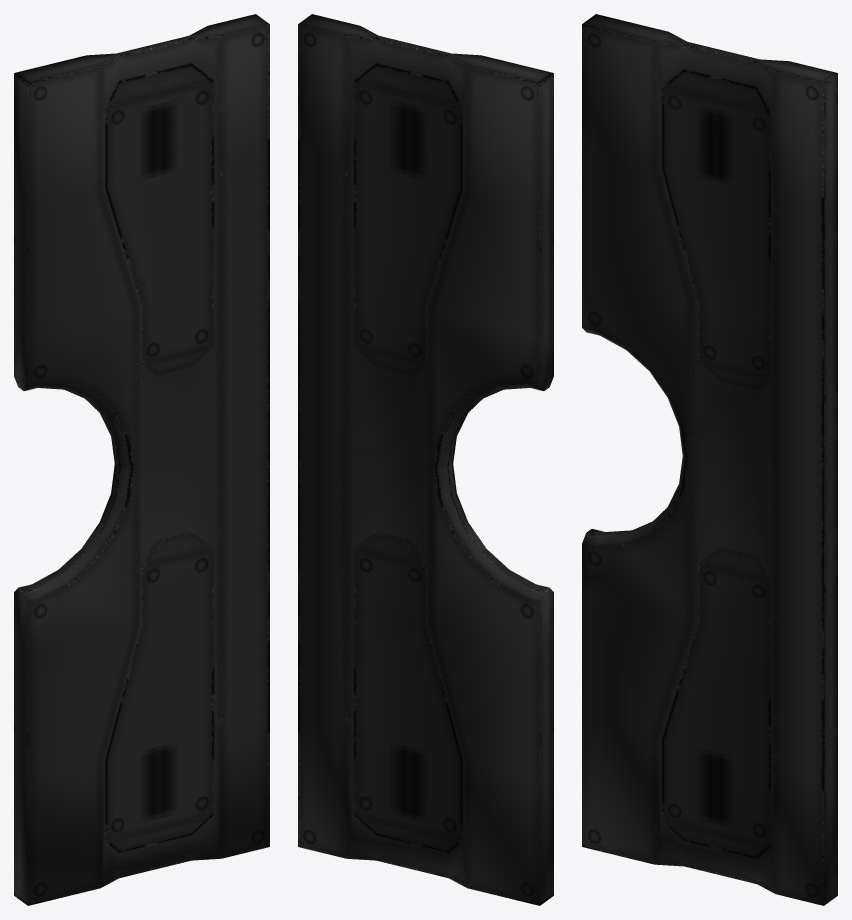
The model's file is SCPSLHCZDoor_left.fbx.
The picture shows the model from 3 angles, left to right: view 1: azimuth 30°, elevation 25°; view 2: azimuth 150°, elevation 25°; view 3: azimuth 330°, elevation 25°; orthographic projection.
Visible parts, largest first — view 1: LP_Door Left; view 2: LP_Door Left; view 3: LP_Door Left.
Boxes of the visible parts, x1=… form: LP_Door Left: x1=14, y1=14, x2=269, y2=905; LP_Door Left: x1=298, y1=14, x2=553, y2=905; LP_Door Left: x1=582, y1=14, x2=837, y2=905.
Size of the model in its own units: 100 by 325 by 10.35.
